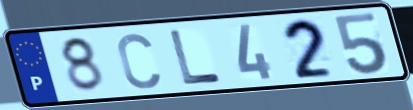2: (277, 14, 340, 83)
4: (235, 22, 274, 81)
5: (333, 11, 391, 77)
8: (59, 35, 107, 95)
C: (114, 31, 163, 91)
L: (166, 28, 224, 86)
